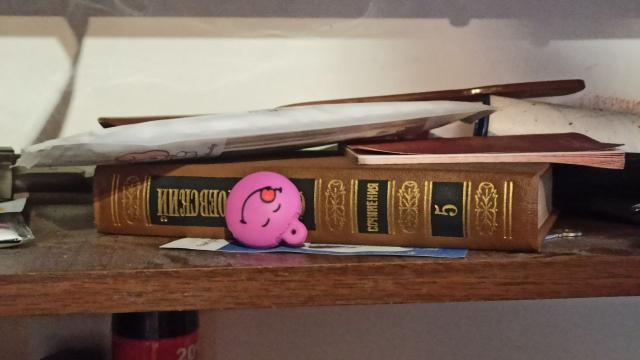book-s-spine: (94, 165, 539, 253)
